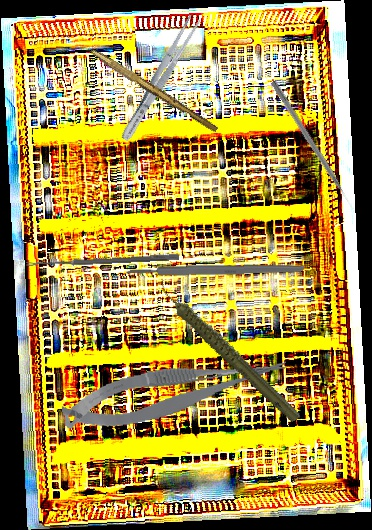Dressing Forceps: (116, 12, 204, 145)
Handpiece: (155, 255, 304, 445)
Micro Scissor: (58, 350, 292, 436)
Pusher: (269, 79, 356, 213)
Scalpel Handle: (86, 47, 221, 134), (125, 263, 306, 277)
Surgical Spoon: (25, 253, 180, 268)
